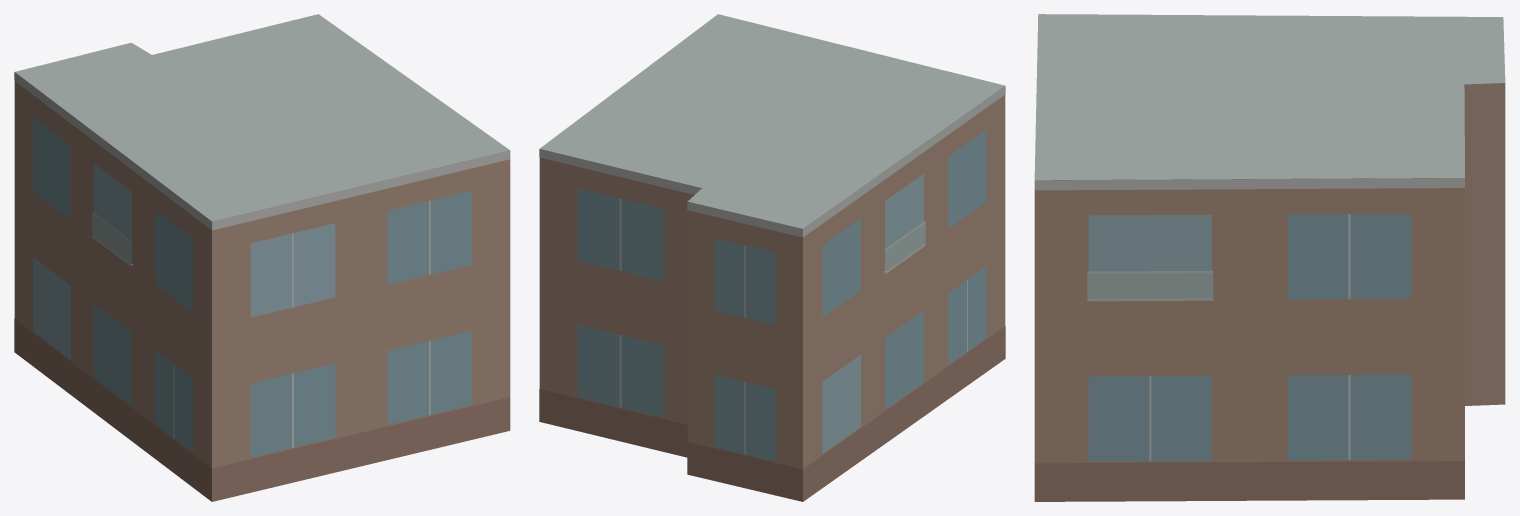
File: survey-upis-32493599.glb
3 renders of one model, left to right at view 1: azimuth 30°, elevation 25°; view 2: azimuth 150°, elevation 25°; view 3: azimuth 270°, elevation 25°, orthographic. The views are drawn at different scales.
Parts seen in each view (by area): view 1: survey-upis-32493599.tmp; view 2: survey-upis-32493599.tmp; view 3: survey-upis-32493599.tmp.
Part boxes in pixels (x1,y1,x2,y2): survey-upis-32493599.tmp: (14, 14, 510, 501); survey-upis-32493599.tmp: (539, 14, 1005, 501); survey-upis-32493599.tmp: (1034, 14, 1505, 501).
Bounding box in the file's own units: 8.56 × 7.7 × 10.23.
